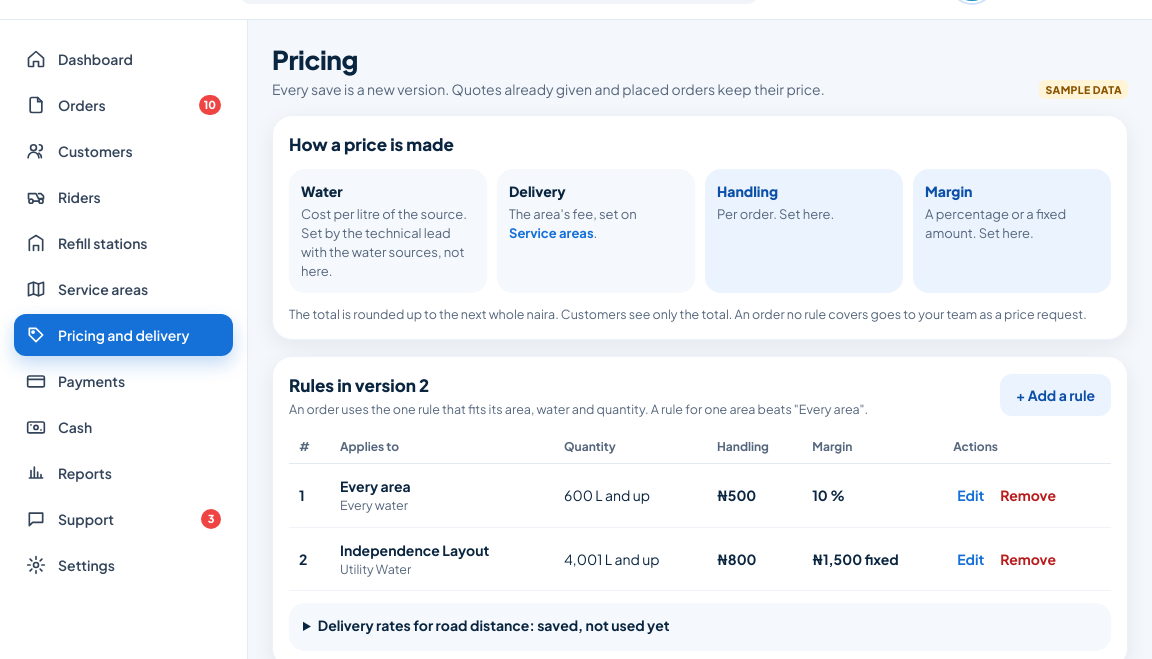
Test case: Pricing screen › says prices changed meanwhile, and loads the newer version
Click the button with aria-label "Remove rule 2" at (1028, 559), box left=992, top=549, right=1064, bottom=569
(page scrolled)
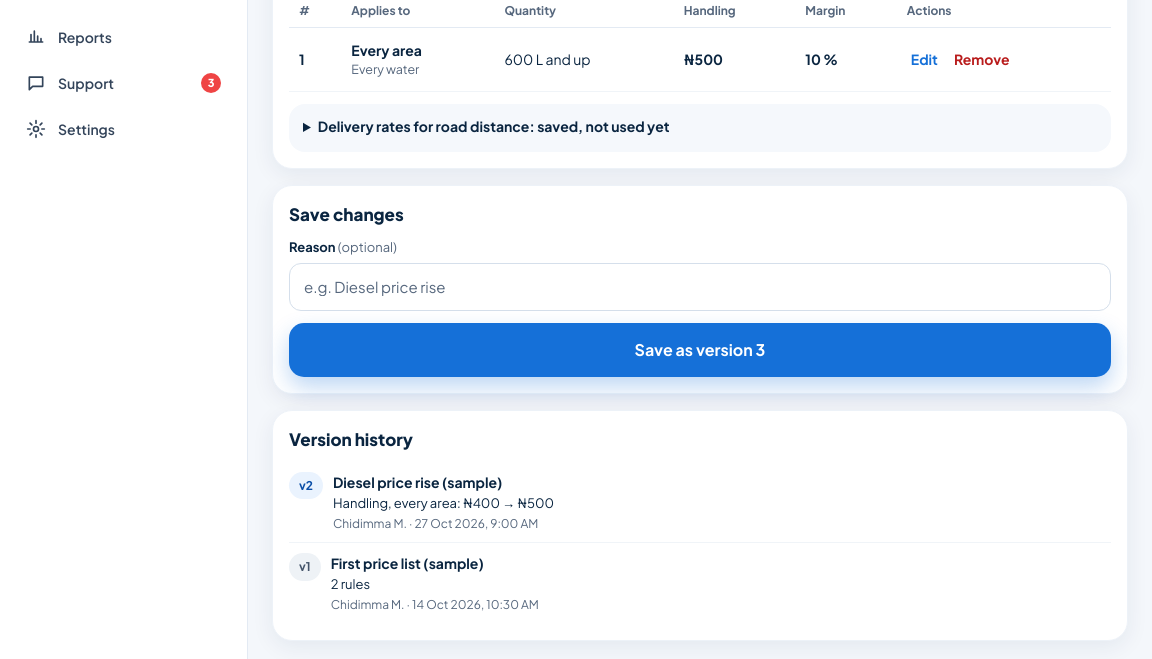
Click the button "Save as version 3" at (700, 350), box left=289, top=323, right=1111, bottom=377
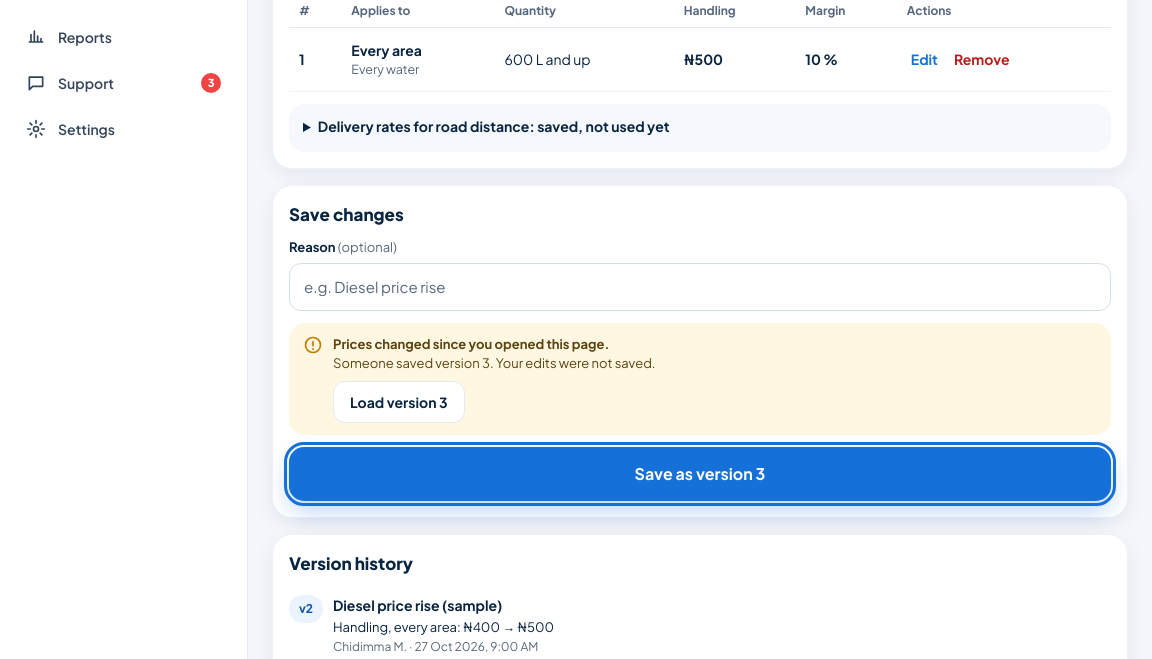
Check: the text "Prices changed since you opened this page." is shown, box left=333, top=335, right=656, bottom=354
Click the button "Load version 3" at (399, 402), box left=333, top=381, right=464, bottom=423
(page scrolled)
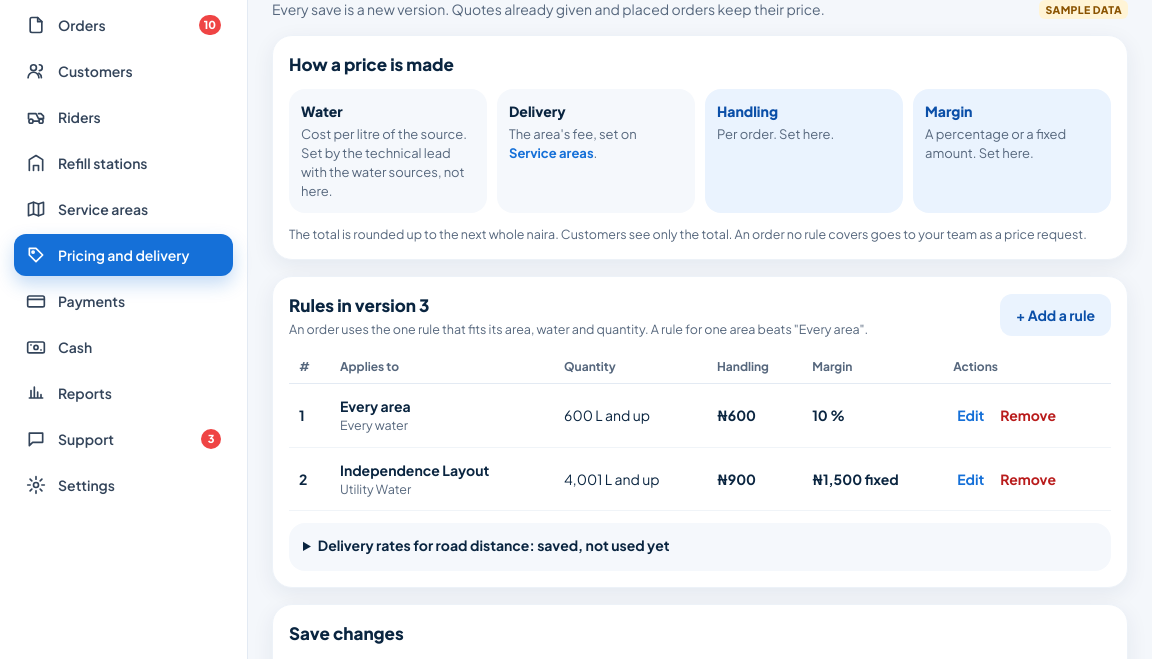
Check: the heading "Rules in version 3" is shown, box left=289, top=294, right=429, bottom=316
